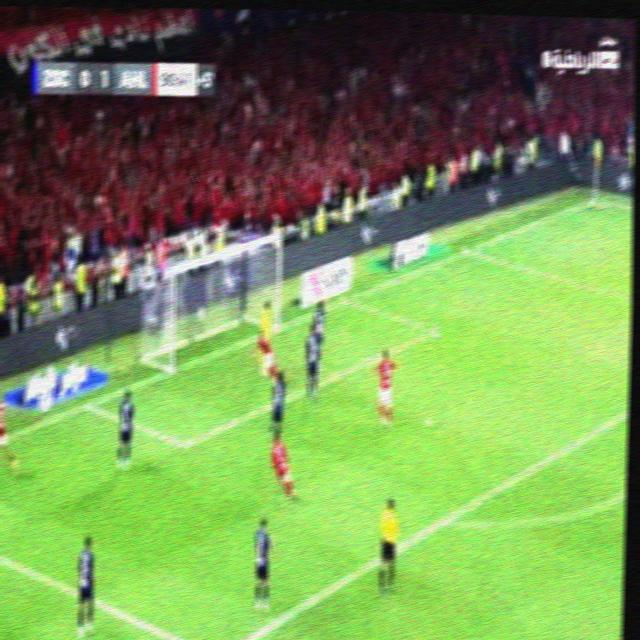bigarea_top_outter: (461, 242, 474, 259)
bottom_arc_area_intersection: (431, 502, 458, 536)
corner: (585, 193, 605, 209)
smallarea_bottom_inner: (173, 432, 194, 459)
smallarea_bottom_outter: (78, 397, 93, 415)
smallarea_top_inner: (426, 319, 440, 338)
smallarea_top_outter: (339, 294, 354, 308)
top_arc_area_intersection: (624, 398, 629, 419)
